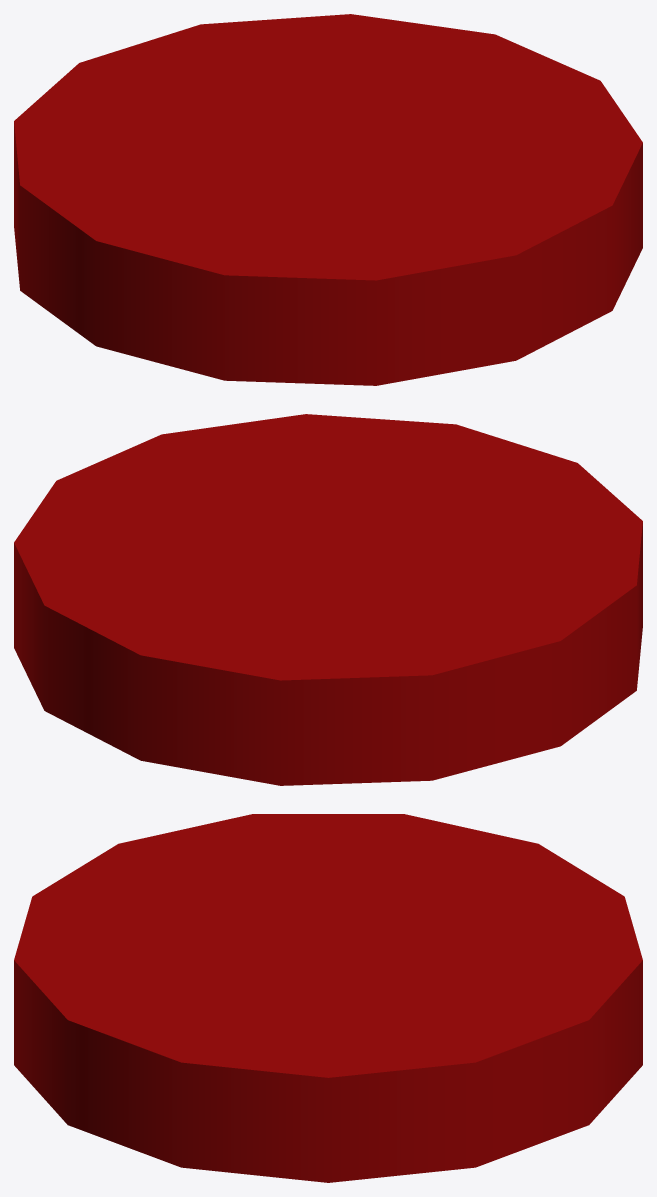
Rendered from red.FBX.
3 renders of one model, top to bottom at view 1: azimuth 30°, elevation 25°; view 2: azimuth 150°, elevation 25°; view 3: azimuth 270°, elevation 25°, orthographic.
Visible parts, largest first — view 1: Cylinder002; view 2: Cylinder002; view 3: Cylinder002.
Part boxes in pixels (x1,y1,x2,y2): Cylinder002: (14, 14, 642, 385); Cylinder002: (14, 414, 642, 785); Cylinder002: (14, 814, 642, 1182).
Size of the model in its own units: 2.94 by 0.5455 by 2.96.
